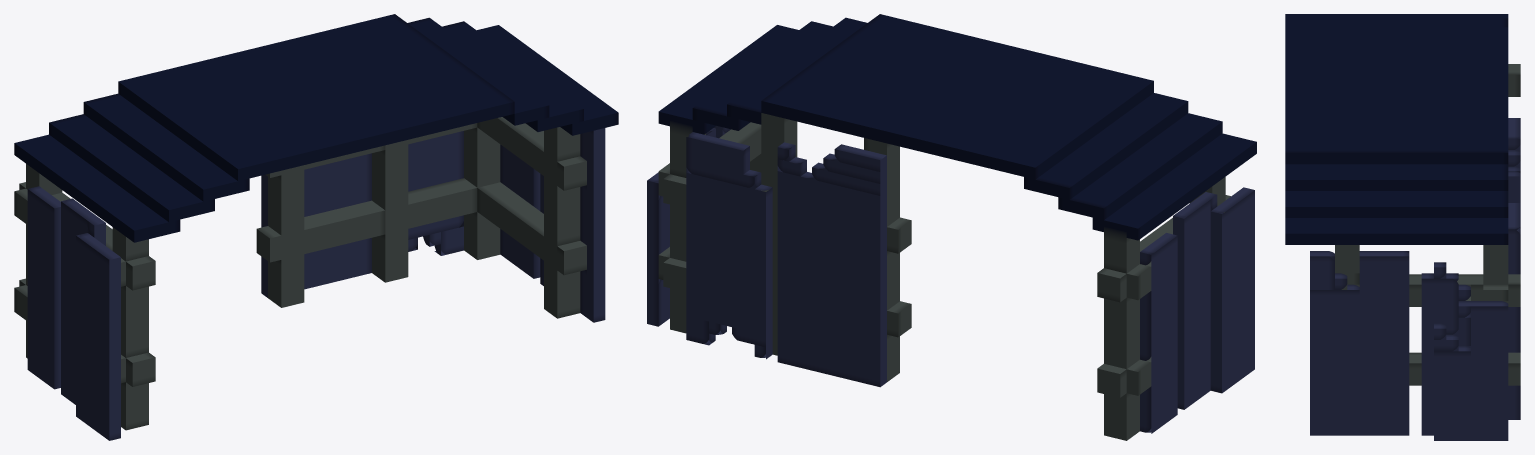
Rendered from altanka.dae.
3 renders of one model, left to right at view 1: azimuth 30°, elevation 25°; view 2: azimuth 150°, elevation 25°; view 3: azimuth 270°, elevation 25°, orthographic. The views are drawn at different scales.
Visible parts, largest first — view 1: Content; view 2: Content; view 3: Content.
Part boxes in pixels (x1,y1,x2,y2): Content: (14, 14, 618, 440); Content: (647, 14, 1256, 440); Content: (1285, 14, 1520, 440).
Bounding box in the file's own units: 44 × 21 × 19.
Materials: 1 (1 with a texture image).
